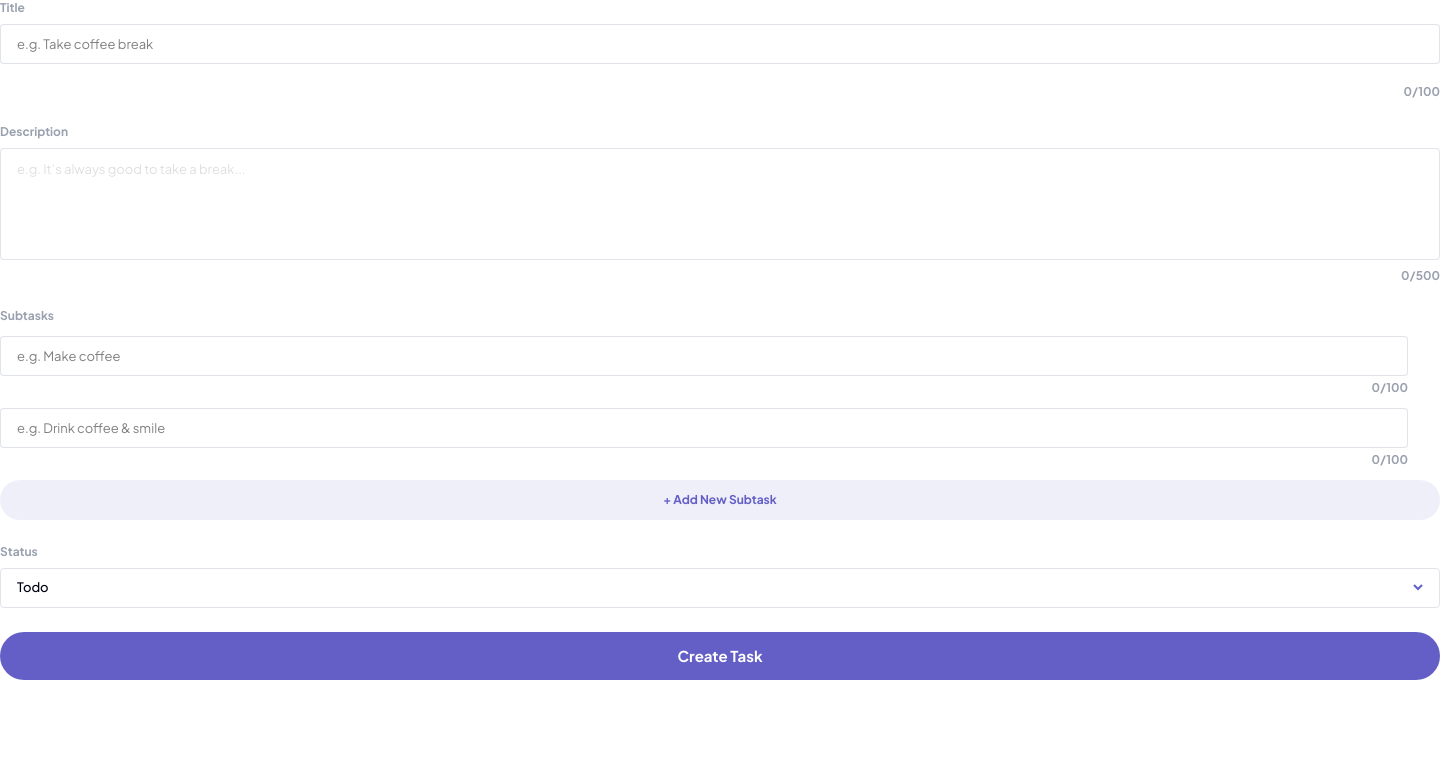
it: TaskForm › shows validation summary when submitted empty
The width and height of the screenshot is (1440, 772).
Click the button "Create Task" at (720, 656), box [0,632,1439,680]
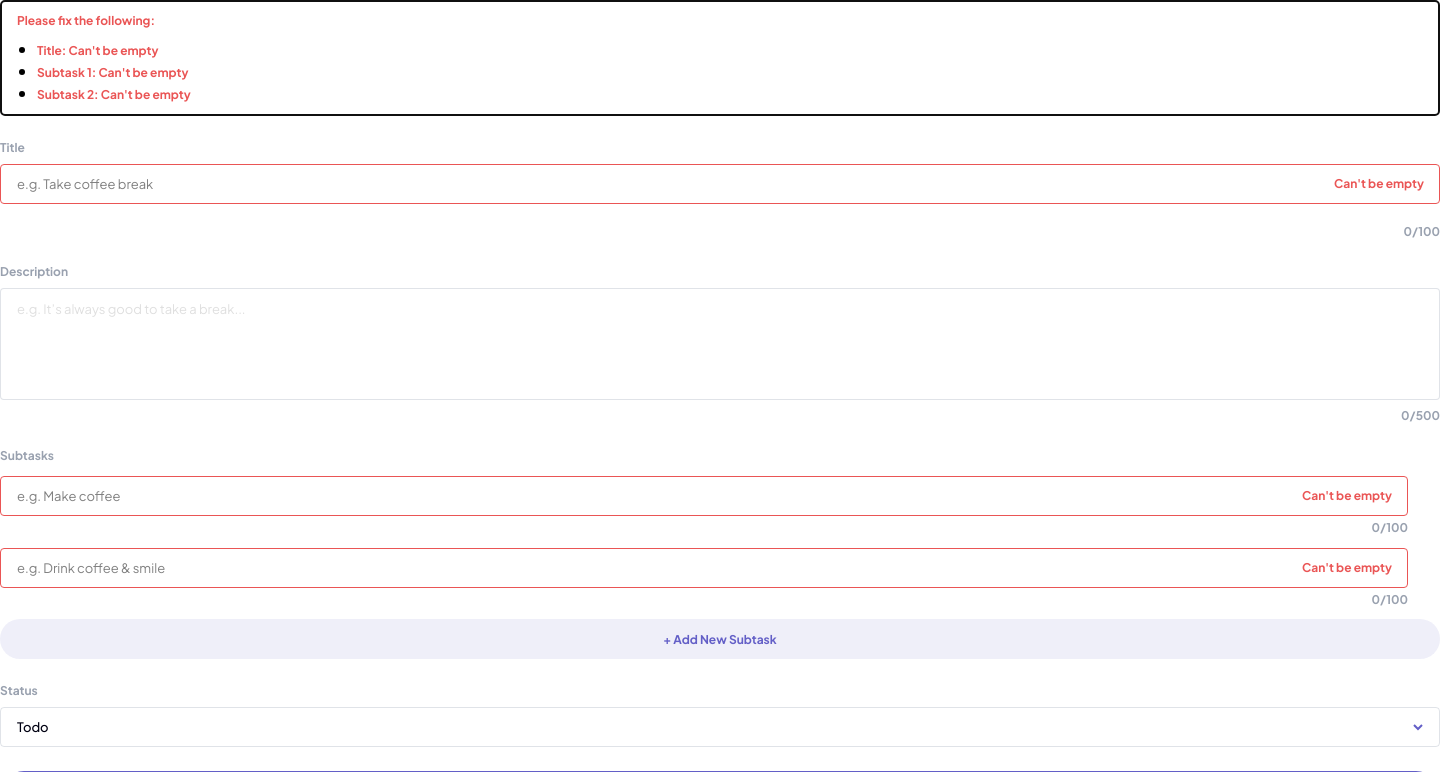
Result: the text "Please fix the following:" is shown at [17,13,155,28]
Result: the 1st text "Can't be empty" is shown at [1334,176,1424,192]
